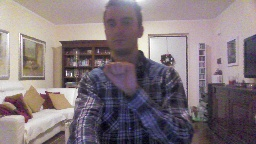Pugno: (101, 59, 138, 94)
